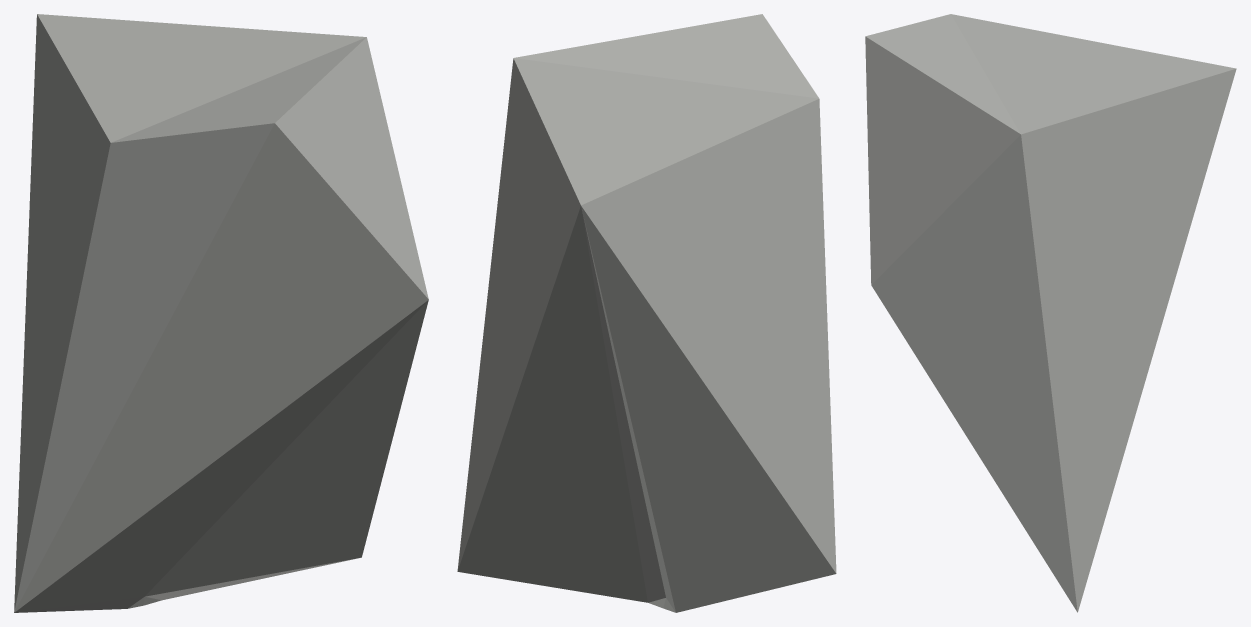
Rendered from YN_SkullTeeth1.fbx.
3 renders of one model, left to right at view 1: azimuth 30°, elevation 25°; view 2: azimuth 150°, elevation 25°; view 3: azimuth 270°, elevation 25°, orthographic. The views are drawn at different scales.
Visible parts, largest first — view 1: YN_SkullTeeth1; view 2: YN_SkullTeeth1; view 3: YN_SkullTeeth1.
Part boxes in pixels (left/top/right/bottom): YN_SkullTeeth1: left=14, top=14, right=428, bottom=612; YN_SkullTeeth1: left=457, top=14, right=836, bottom=612; YN_SkullTeeth1: left=865, top=14, right=1236, bottom=612.
Size of the model in its own units: 0.4322 by 0.622 by 0.4282.
